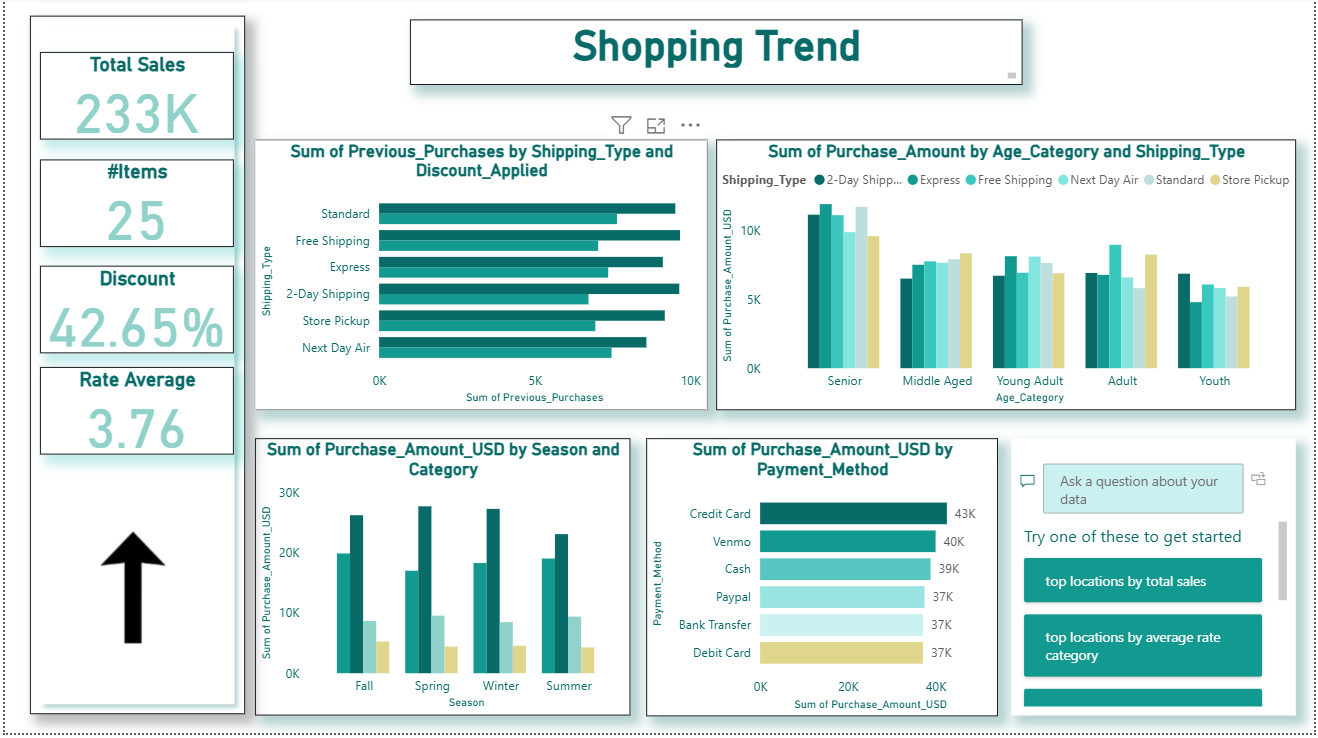

Layout of this report page (visuals, bound fields, positions):
{"tool":"powerbi","page":{"name":"Page 2","canvas":[1280,720],"ordinal":1},"visuals":[{"type":"clusteredBarChart","fields":{"Category":["Sheet1.Payment_Method"],"Y":["Sum(Sheet1.Purchase_Amount_USD)"]},"box":[627.2,431.3,343.8,272.3],"z":0},{"type":"clusteredColumnChart","fields":{"Y":["Sum(Sheet1.Purchase_Amount_USD)"],"Series":["Sheet1.Category"],"Category":["Sheet1.Season"]},"box":[244,431.3,367.2,271.1],"z":1000},{"type":"textbox","title":"Shopping Trend","box":[396.8,22.2,598.8,64.1],"z":2000},{"type":"shape","box":[24.5,18.3,210,683.6],"z":3000},{"type":"card","title":"Total Sales","fields":{"Values":["ALL Measues.Total Sales"]},"box":[34.2,53.8,189.5,85.6],"z":4000},{"type":"card","title":"Discount","fields":{"Values":["ALL Measues.% Discounted Sales"]},"box":[34.2,262.9,189.5,85.6],"z":5000},{"type":"card","title":"Rate Average","fields":{"Values":["ALL Measues.Average_Rating_Per_Category"]},"box":[34.2,362,189.5,85.6],"z":6000},{"type":"card","title":"#Items","fields":{"Values":["ALL Measues.Category"]},"box":[34.2,159,189.5,85.6],"z":7000},{"type":"imagepro72F4F4C66B5C47EDB72C8CA5F4BFCD1A","fields":{"imageUrl":["ALL Measues.Track Rev"]},"box":[47.7,472,155.3,211.6],"z":8000},{"type":"clusteredBarChart","fields":{"Category":["Sheet1.Shipping_Type"],"Series":["Sheet1.Discount_Applied"],"Y":["Sum(Sheet1.Previous_Purchases)"]},"box":[244,139.2,442.4,264.9],"z":9000},{"type":"qnaVisual","box":[984.5,431.3,278.5,271.1],"z":10000},{"type":"clusteredColumnChart","title":"Sum of Purchase_Amount by Age_Category and Shipping_Type","fields":{"Category":["Sheet1.Age_Category"],"Series":["Sheet1.Shipping_Type"],"Y":["Sum(Sheet1.Purchase_Amount_USD)"]},"box":[696.2,139.2,566.8,264.9],"z":11000}]}

Visuals, with their boxes in screenshot pixels (x1, y1, x2, y2), scaled from the page's 1280x720 canvas onto the 1318x738 screenshot:
clusteredBarChart - Sheet1.Payment_Method x Sum(Sheet1.Purchase_Amount_USD): [left=646, top=442, right=1000, bottom=721]
clusteredColumnChart - Sum(Sheet1.Purchase_Amount_USD) x Sheet1.Category: [left=251, top=442, right=629, bottom=720]
"Shopping Trend" textbox: [left=409, top=23, right=1025, bottom=88]
shape: [left=25, top=19, right=241, bottom=719]
"Total Sales" card: [left=35, top=55, right=230, bottom=143]
"Discount" card: [left=35, top=269, right=230, bottom=357]
"Rate Average" card: [left=35, top=371, right=230, bottom=459]
"#Items" card: [left=35, top=163, right=230, bottom=251]
imagepro72F4F4C66B5C47EDB72C8CA5F4BFCD1A - ALL Measues.Track Rev: [left=49, top=484, right=209, bottom=701]
clusteredBarChart - Sheet1.Shipping_Type x Sheet1.Discount_Applied: [left=251, top=143, right=707, bottom=414]
qnaVisual: [left=1014, top=442, right=1300, bottom=720]
"Sum of Purchase_Amount by Age_Category and Shipping_Type" clusteredColumnChart: [left=717, top=143, right=1300, bottom=414]
